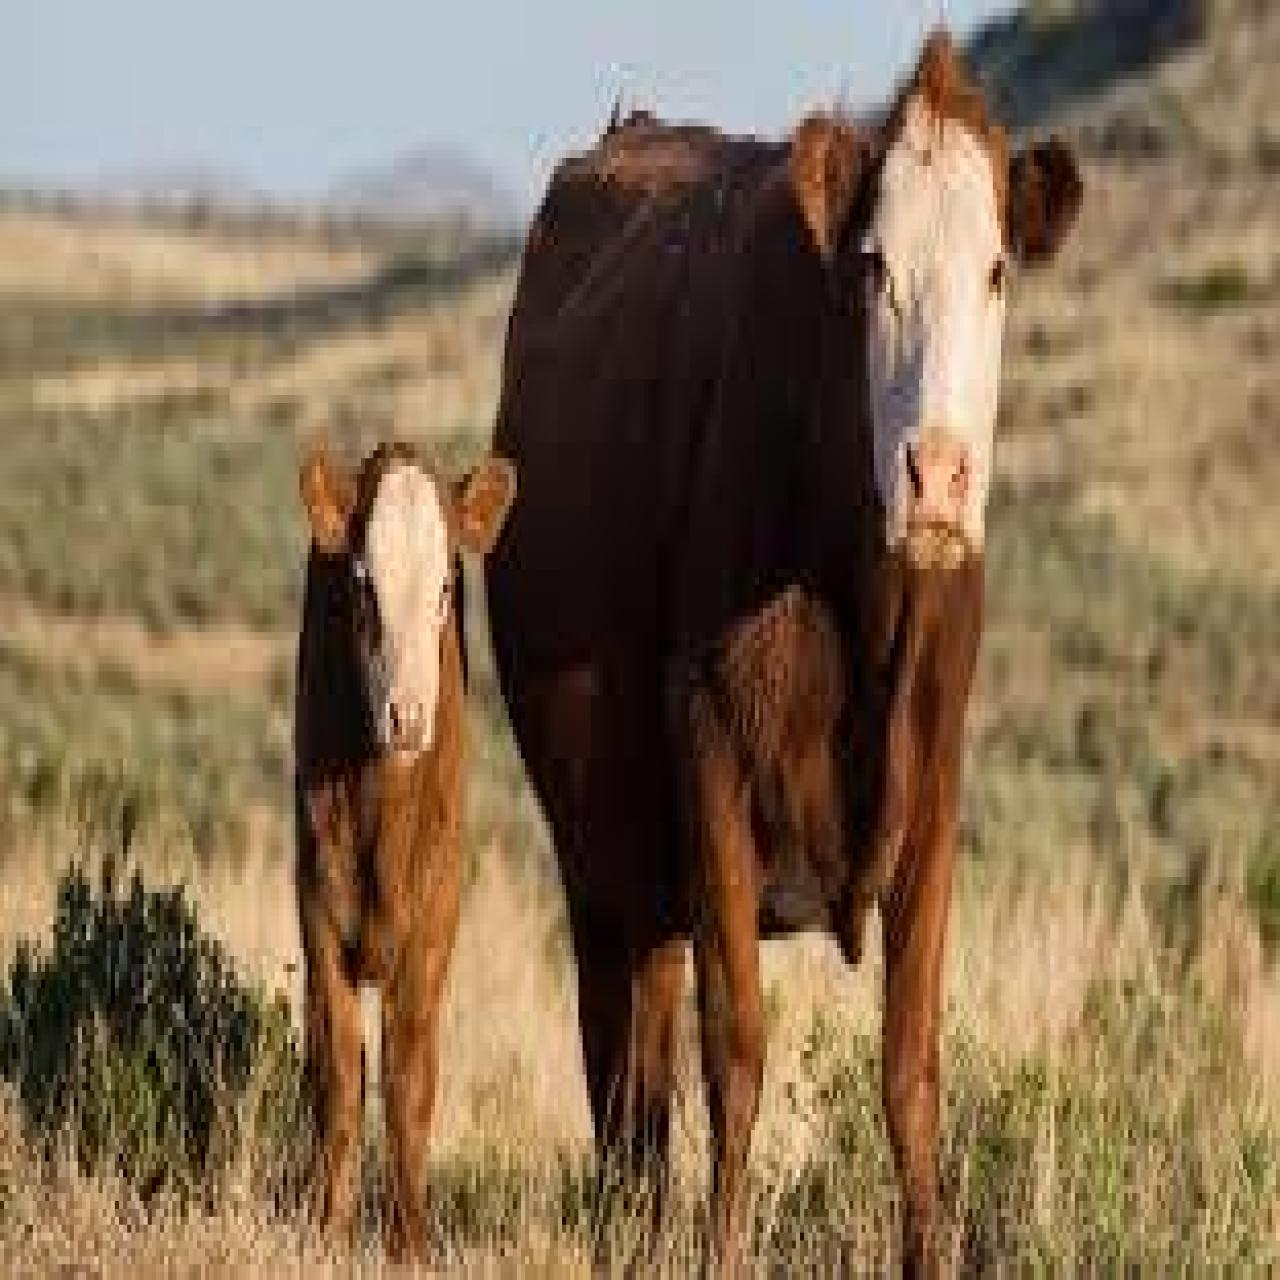cow: (484, 30, 1087, 1280), (291, 443, 517, 1257)
